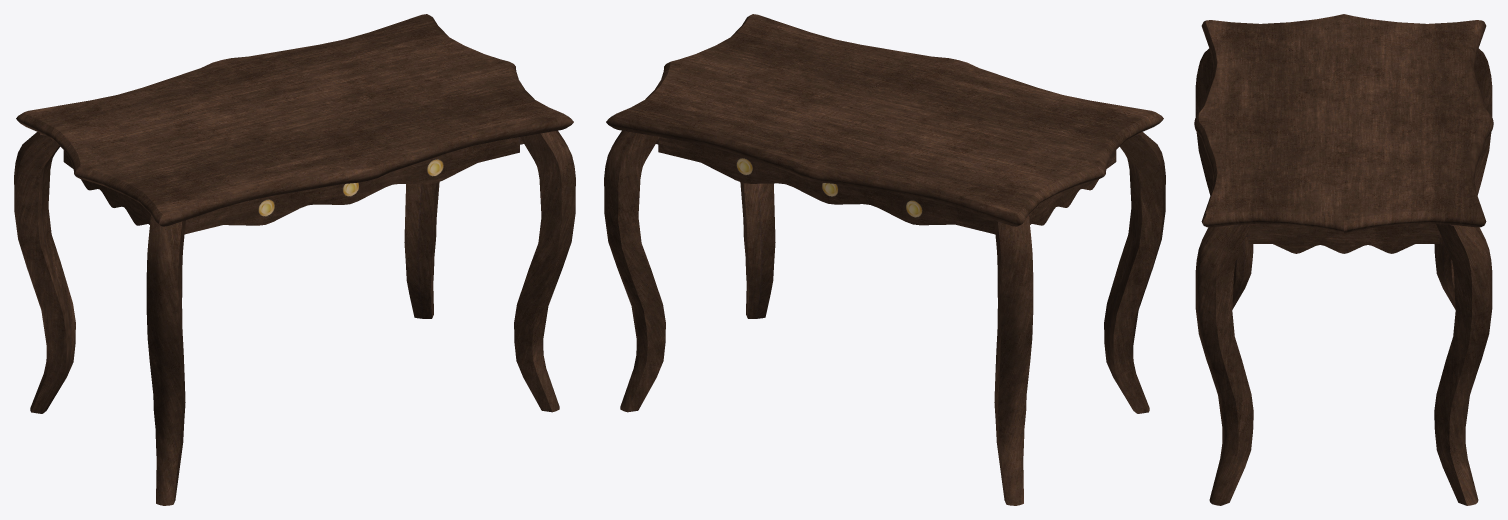
The model's file is EndTable_Variation_2.FBX.
3 views of the same model, side by side, from view 1: azimuth 30°, elevation 25°; view 2: azimuth 150°, elevation 25°; view 3: azimuth 270°, elevation 25° (orthographic).
Visible parts, largest first — view 1: Variation_2; view 2: Variation_2; view 3: Variation_2.
Boxes of the visible parts, left/top/right/bottom form: Variation_2: left=14, top=14, right=575, bottom=505; Variation_2: left=604, top=14, right=1165, bottom=505; Variation_2: left=1194, top=14, right=1493, bottom=505.
Size of the model in its own units: 628 by 401 by 373.
Materials: 1 (1 with a texture image).
